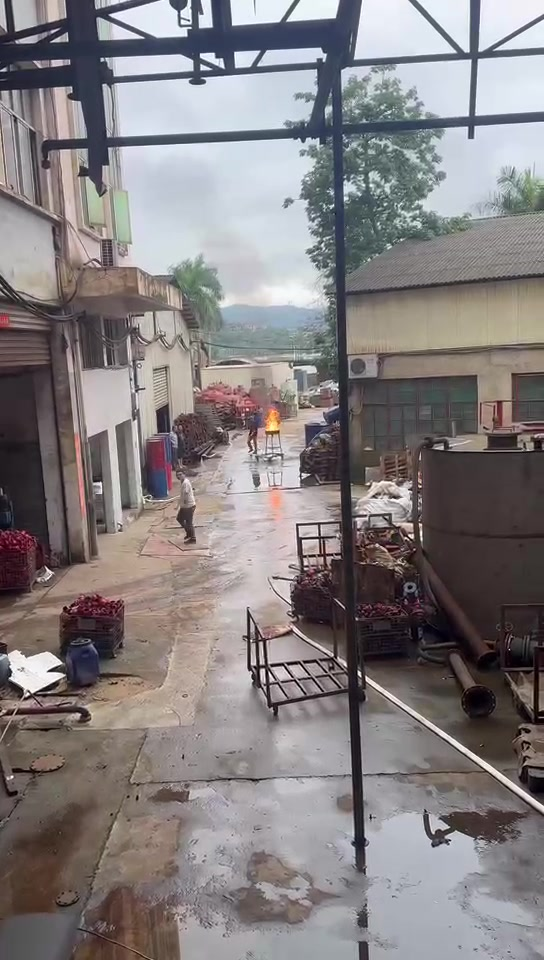fire: (265, 407, 280, 431)
